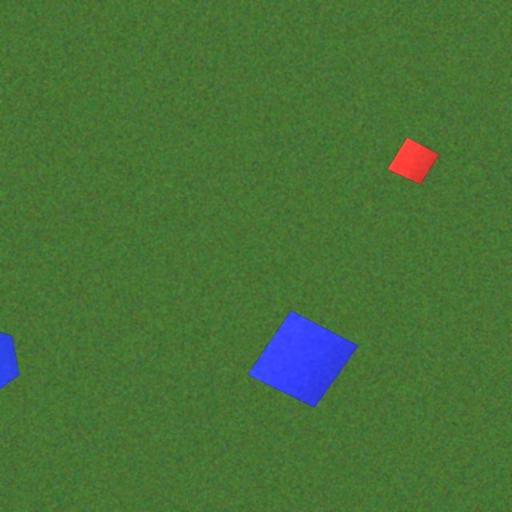BLUE_SQUARE: (246, 310, 360, 408)
RED_SQUARE: (386, 136, 440, 186)
